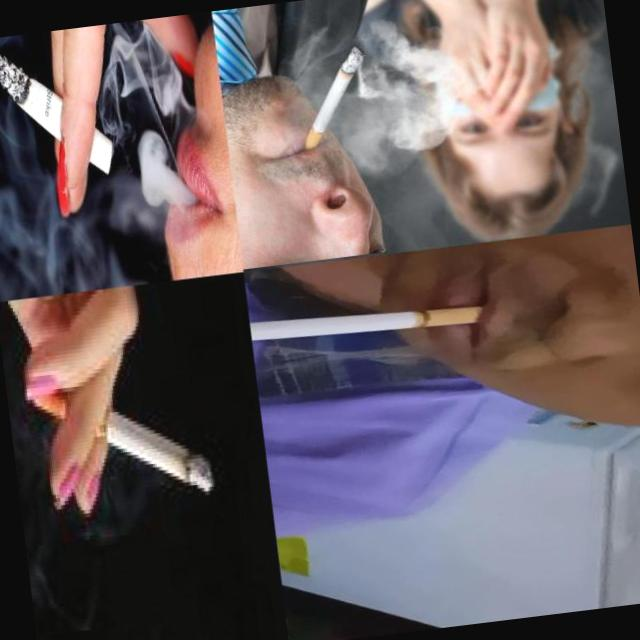cigarette: (30, 360, 216, 516), (0, 39, 117, 188), (249, 290, 486, 350), (291, 43, 376, 152)
